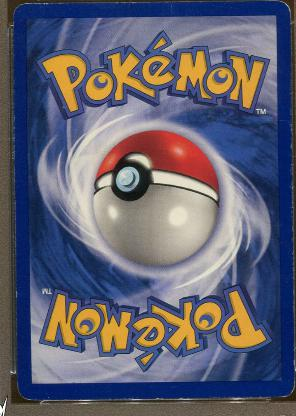Card: (9, 0, 293, 406)
Corner Wear: (17, 383, 43, 401), (271, 380, 293, 398), (277, 0, 294, 17), (13, 112, 15, 162)
Edge Wear: (289, 50, 294, 316), (71, 396, 261, 400), (35, 1, 187, 5), (291, 326, 294, 378), (15, 286, 17, 300)
